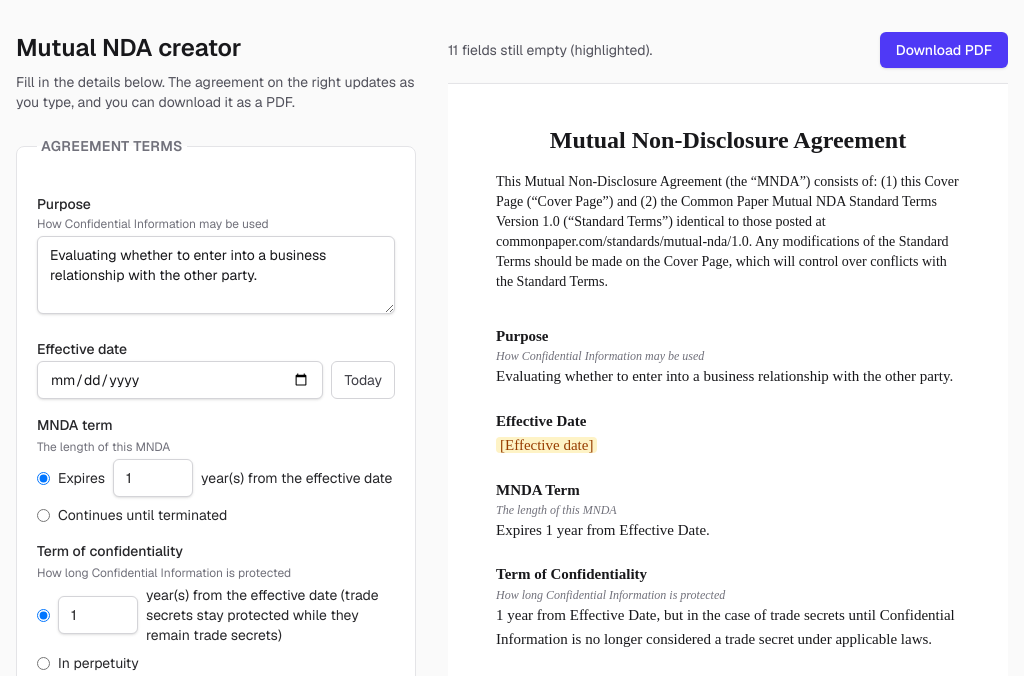
Test case: NdaBuilder › fills in today's date from the Today button
The image size is (1024, 676).
Click the button "Today": (363, 380) [331,361,395,399]
(page scrolled)
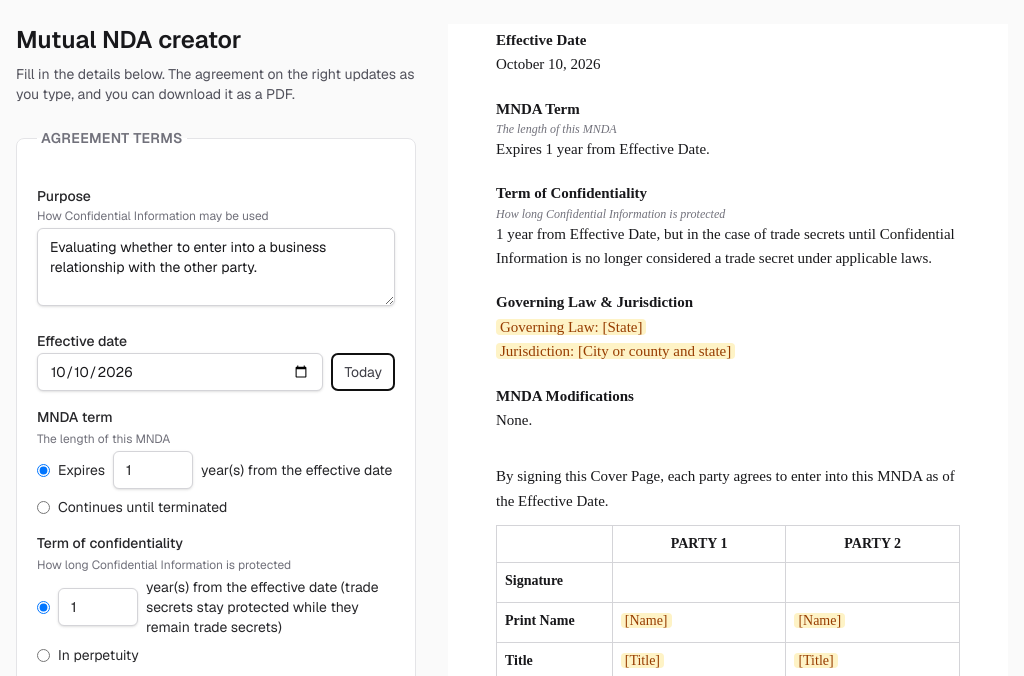
Expected: the element that starts with "Mutual Non-Disclosure Agreement" shows "October 10, 2026", [496,56,601,72]
